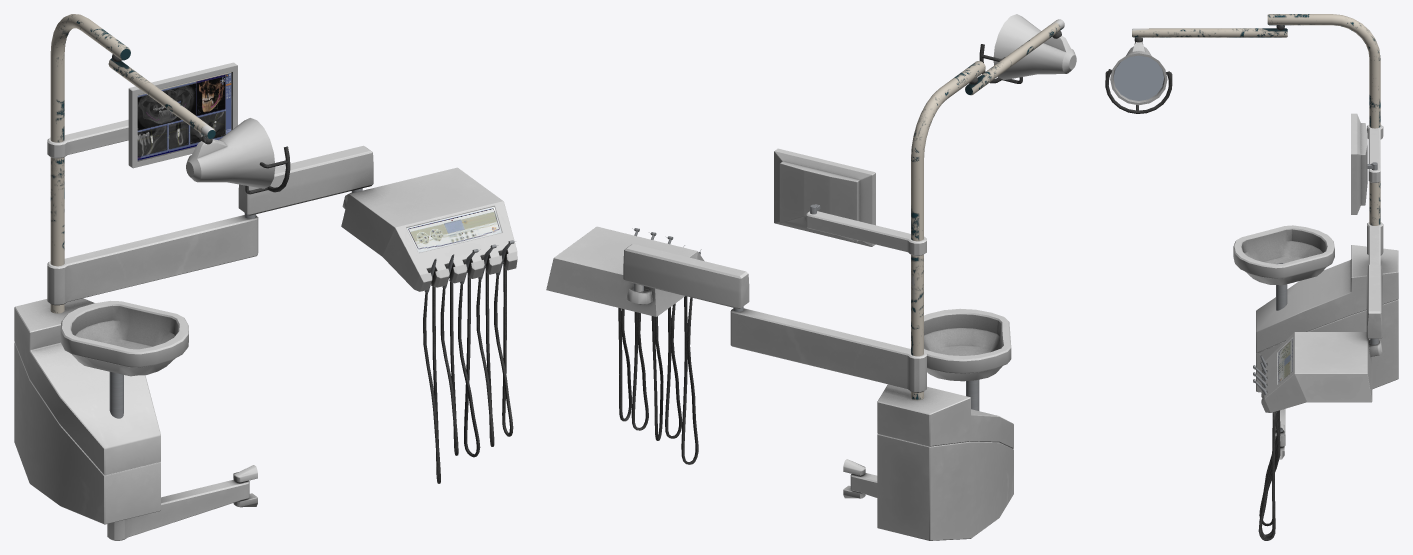
The model's file is dental_machine.fbx.
The picture shows the model from 3 angles, left to right: view 1: azimuth 30°, elevation 25°; view 2: azimuth 150°, elevation 25°; view 3: azimuth 270°, elevation 25°; orthographic projection. The views are drawn at different scales.
Parts seen in each view (by area): view 1: dental_machine_body, dental_m_panel, dental_m_1, dental_machine_tv, dental_m_2, dental_machine_lamp, dental_machine_pole, dental_machine_mount_2, dental_machine.002, dental_machine_pole_2; view 2: dental_machine_body, dental_m_panel, dental_m_1, dental_machine_tv, dental_m_2, dental_machine_pole, dental_machine_lamp, dental_machine.002, dental_machine_pole_2; view 3: dental_machine_body, dental_m_panel, dental_machine_lamp, dental_machine_pole, dental_machine_tv, dental_machine_pole_2, dental_m_2, dental_machine.002, dental_m_1.
Boxes of the visible parts, x1,y1,x2,y2 form: dental_machine_body: (14, 298, 188, 524); dental_m_panel: (341, 167, 517, 483); dental_m_1: (47, 215, 258, 305); dental_machine_tv: (128, 62, 237, 168); dental_m_2: (238, 145, 373, 218); dental_machine_lamp: (186, 118, 290, 194); dental_machine_pole: (50, 14, 130, 313); dental_machine_mount_2: (107, 479, 249, 540); dental_machine.002: (47, 119, 128, 158); dental_machine_pole_2: (108, 58, 215, 144); dental_machine_body: (877, 308, 1013, 540); dental_m_panel: (546, 226, 704, 464); dental_m_1: (730, 308, 926, 392); dental_machine_tv: (774, 148, 875, 246); dental_m_2: (623, 244, 749, 311); dental_machine_pole: (911, 61, 985, 400); dental_machine_lamp: (979, 14, 1076, 83); dental_machine.002: (806, 211, 926, 255); dental_machine_pole_2: (965, 19, 1064, 95); dental_machine_body: (1233, 225, 1398, 392); dental_m_panel: (1258, 332, 1382, 540); dental_machine_lamp: (1105, 42, 1172, 113); dental_machine_pole: (1267, 14, 1380, 225); dental_machine_tv: (1351, 113, 1377, 214); dental_machine_pole_2: (1132, 28, 1287, 42); dental_m_2: (1366, 264, 1382, 338); dental_machine.002: (1367, 124, 1383, 182); dental_m_1: (1367, 222, 1383, 264).
Size of the model in its own units: 1.87 by 2.05 by 1.36.
